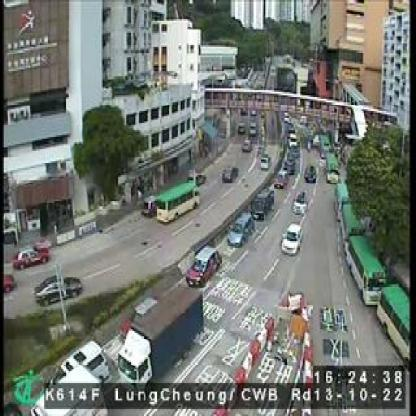Car: (185, 244, 221, 288), (33, 275, 83, 305), (14, 244, 52, 269), (228, 211, 254, 247), (250, 188, 276, 222), (282, 221, 305, 256), (292, 190, 309, 214), (284, 151, 301, 174), (222, 165, 238, 181), (274, 172, 287, 190), (287, 132, 298, 150), (193, 174, 207, 188), (305, 163, 315, 181), (259, 153, 269, 170), (242, 140, 251, 154)
Minibus: (376, 284, 412, 367), (346, 233, 384, 304), (157, 178, 200, 226), (341, 206, 364, 240), (335, 181, 350, 211), (326, 152, 338, 184)
Truck: (121, 286, 206, 383)
